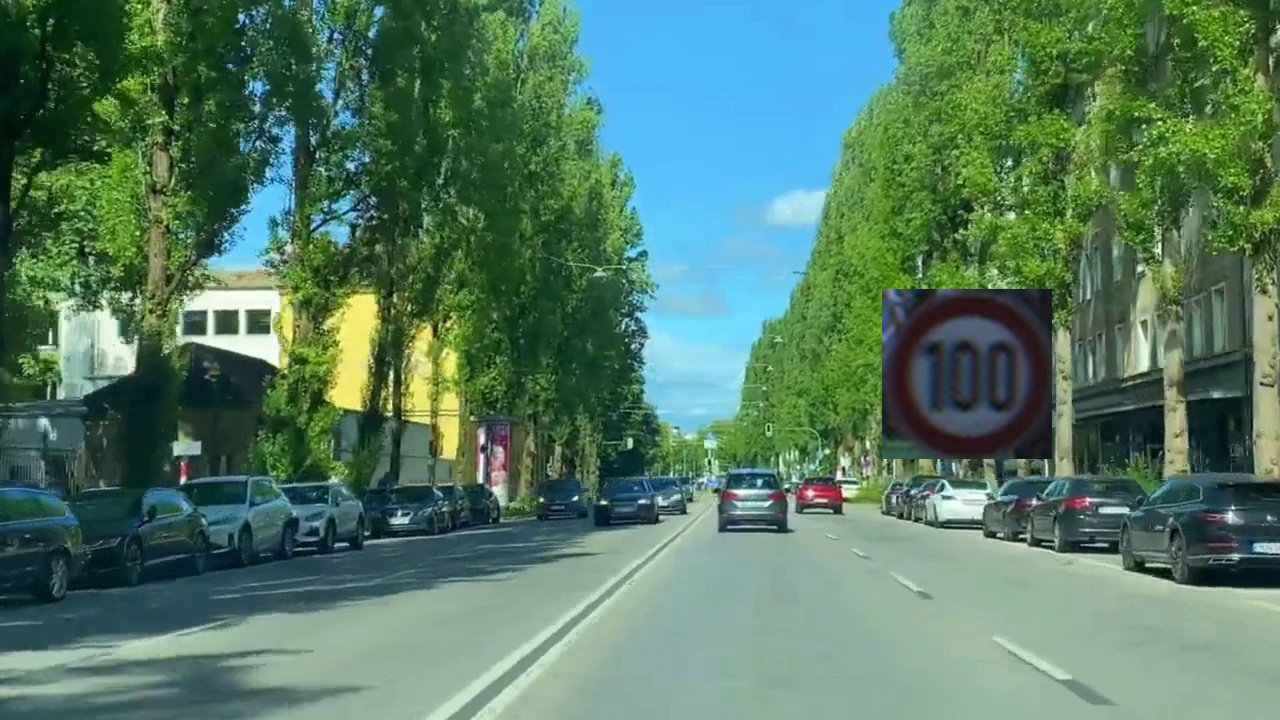Speed 100: (882, 289, 1052, 459)
